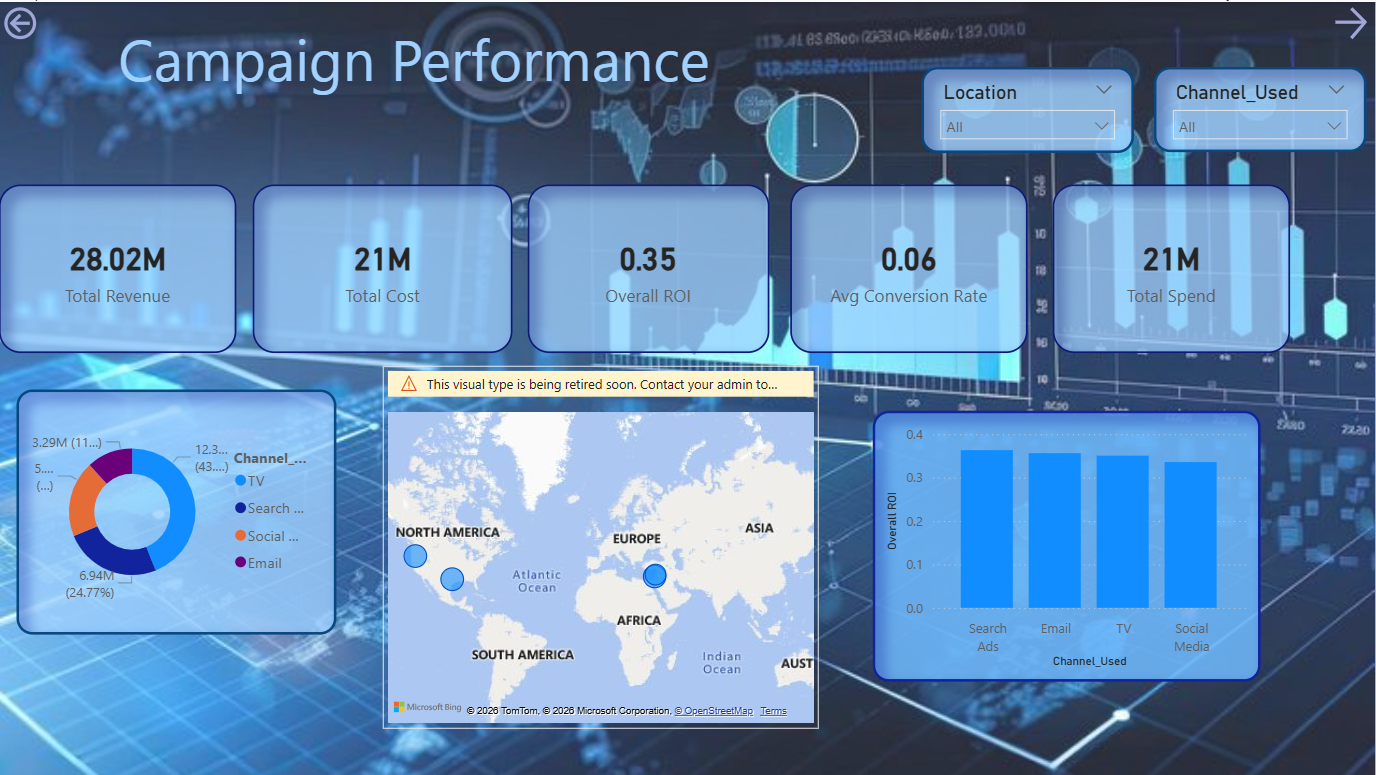

This screenshot's page, from the dashboard's own definition file:
{"tool":"powerbi","page":{"name":"Campign Performance","canvas":[1280,720],"ordinal":1},"visuals":[{"type":"actionButton","box":[0,0,39.5,39.5],"z":0},{"type":"shape","box":[89.5,1.2,593,100],"z":1000},{"type":"card","fields":{"Values":["Marketing_Campaign_Performance_Project_Dataset.Total Revenue"]},"box":[0,169.8,220.9,157],"z":2000},{"type":"card","fields":{"Values":["Marketing_Campaign_Performance_Project_Dataset.Total Cost"]},"box":[236,169.8,241.9,157],"z":3000},{"type":"card","fields":{"Values":["Marketing_Campaign_Performance_Project_Dataset.Overall ROI"]},"box":[491.9,169.8,224.4,157],"z":4000},{"type":"card","fields":{"Values":["Marketing_Campaign_Performance_Project_Dataset.Avg Conversion Rate"]},"box":[736,169.8,220.9,157],"z":5000},{"type":"card","fields":{"Values":["Marketing_Campaign_Performance_Project_Dataset.Total Spend"]},"box":[980.2,169.8,220.9,157],"z":6000},{"type":"slicer","fields":{"Values":["Marketing_Campaign_Performance_Project_Dataset.Channel_Used"]},"box":[1074.4,60.5,197.7,79.1],"z":7000},{"type":"slicer","fields":{"Values":["Marketing_Campaign_Performance_Project_Dataset.Location"]},"box":[858.1,60.5,197.7,80.2],"z":8000},{"type":"donutChart","fields":{"Y":["Marketing_Campaign_Performance_Project_Dataset.Total Revenue"],"Category":["Marketing_Campaign_Performance_Project_Dataset.Channel_Used"]},"box":[16.3,360.5,297.7,227.9],"z":9000},{"type":"map","fields":{"Category":["Marketing_Campaign_Performance_Project_Dataset.Location"],"Size":["Marketing_Campaign_Performance_Project_Dataset.Total Revenue"]},"box":[357,338.4,405.8,337.2],"z":10000},{"type":"clusteredColumnChart","fields":{"Y":["Marketing_Campaign_Performance_Project_Dataset.Overall ROI"],"Category":["Marketing_Campaign_Performance_Project_Dataset.Channel_Used"]},"box":[812.8,380.2,360.5,252.3],"z":11000},{"type":"actionButton","box":[1237,0,43,39.5],"z":12000}]}

Visuals, with their boxes in screenshot pixels (x1, y1, x2, y2), scaled from the page's 1280x720 canvas onto the 1376x775 screenshot:
actionButton: 0/0/42/43
shape: 96/1/734/109
card - Marketing_Campaign_Performance_Project_Dataset.Total Revenue: 0/183/237/352
card - Marketing_Campaign_Performance_Project_Dataset.Total Cost: 254/183/514/352
card - Marketing_Campaign_Performance_Project_Dataset.Overall ROI: 529/183/770/352
card - Marketing_Campaign_Performance_Project_Dataset.Avg Conversion Rate: 791/183/1029/352
card - Marketing_Campaign_Performance_Project_Dataset.Total Spend: 1054/183/1291/352
slicer - Marketing_Campaign_Performance_Project_Dataset.Channel_Used: 1155/65/1368/150
slicer - Marketing_Campaign_Performance_Project_Dataset.Location: 922/65/1135/151
donutChart - Marketing_Campaign_Performance_Project_Dataset.Total Revenue x Marketing_Campaign_Performance_Project_Dataset.Channel_Used: 18/388/338/633
map - Marketing_Campaign_Performance_Project_Dataset.Location x Marketing_Campaign_Performance_Project_Dataset.Total Revenue: 384/364/820/727
clusteredColumnChart - Marketing_Campaign_Performance_Project_Dataset.Overall ROI x Marketing_Campaign_Performance_Project_Dataset.Channel_Used: 874/409/1261/681
actionButton: 1330/0/1375/43
